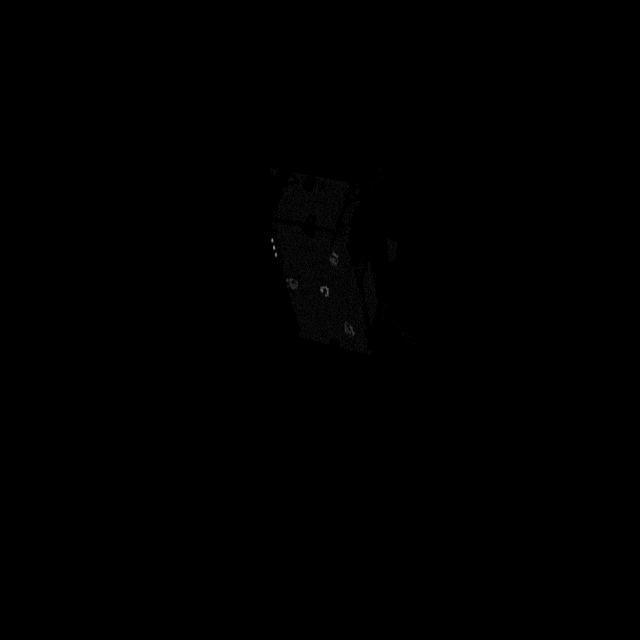satellite: (246, 152, 414, 368)
